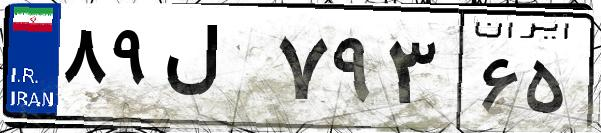3: (385, 28, 445, 110)
5: (525, 38, 570, 115)
6: (475, 38, 525, 113)
7: (270, 28, 330, 110)
8: (57, 26, 110, 100)
9: (330, 28, 385, 110), (110, 28, 158, 98)
ل: (158, 20, 270, 120)
